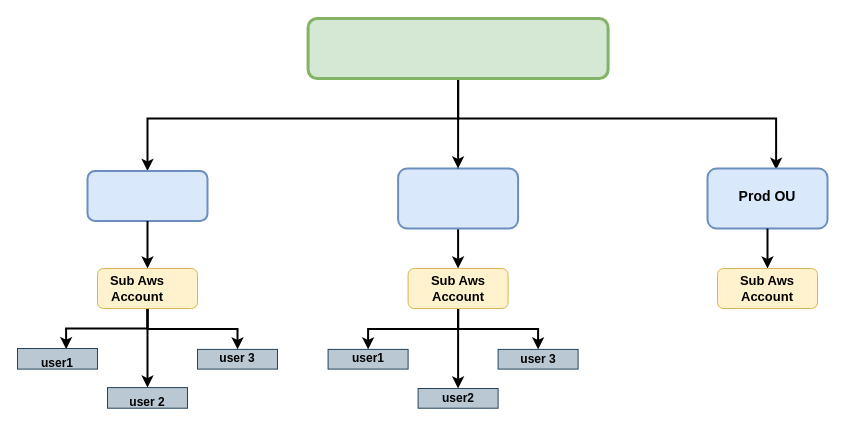
Some shapes in this 846 by 435 pixel diagram are drawn without their labels. The shapes that lost their labels are listed below. From the top down, each one's centre as x and y in pixels, then its label:
(457,48): Root Account
(147,196): Dev OU
(458,198): Uat OU
